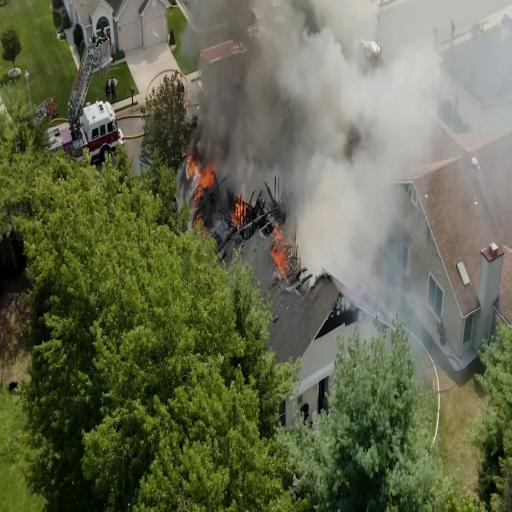smoke: (313, 60, 437, 180), (249, 39, 340, 160), (299, 124, 364, 286)
